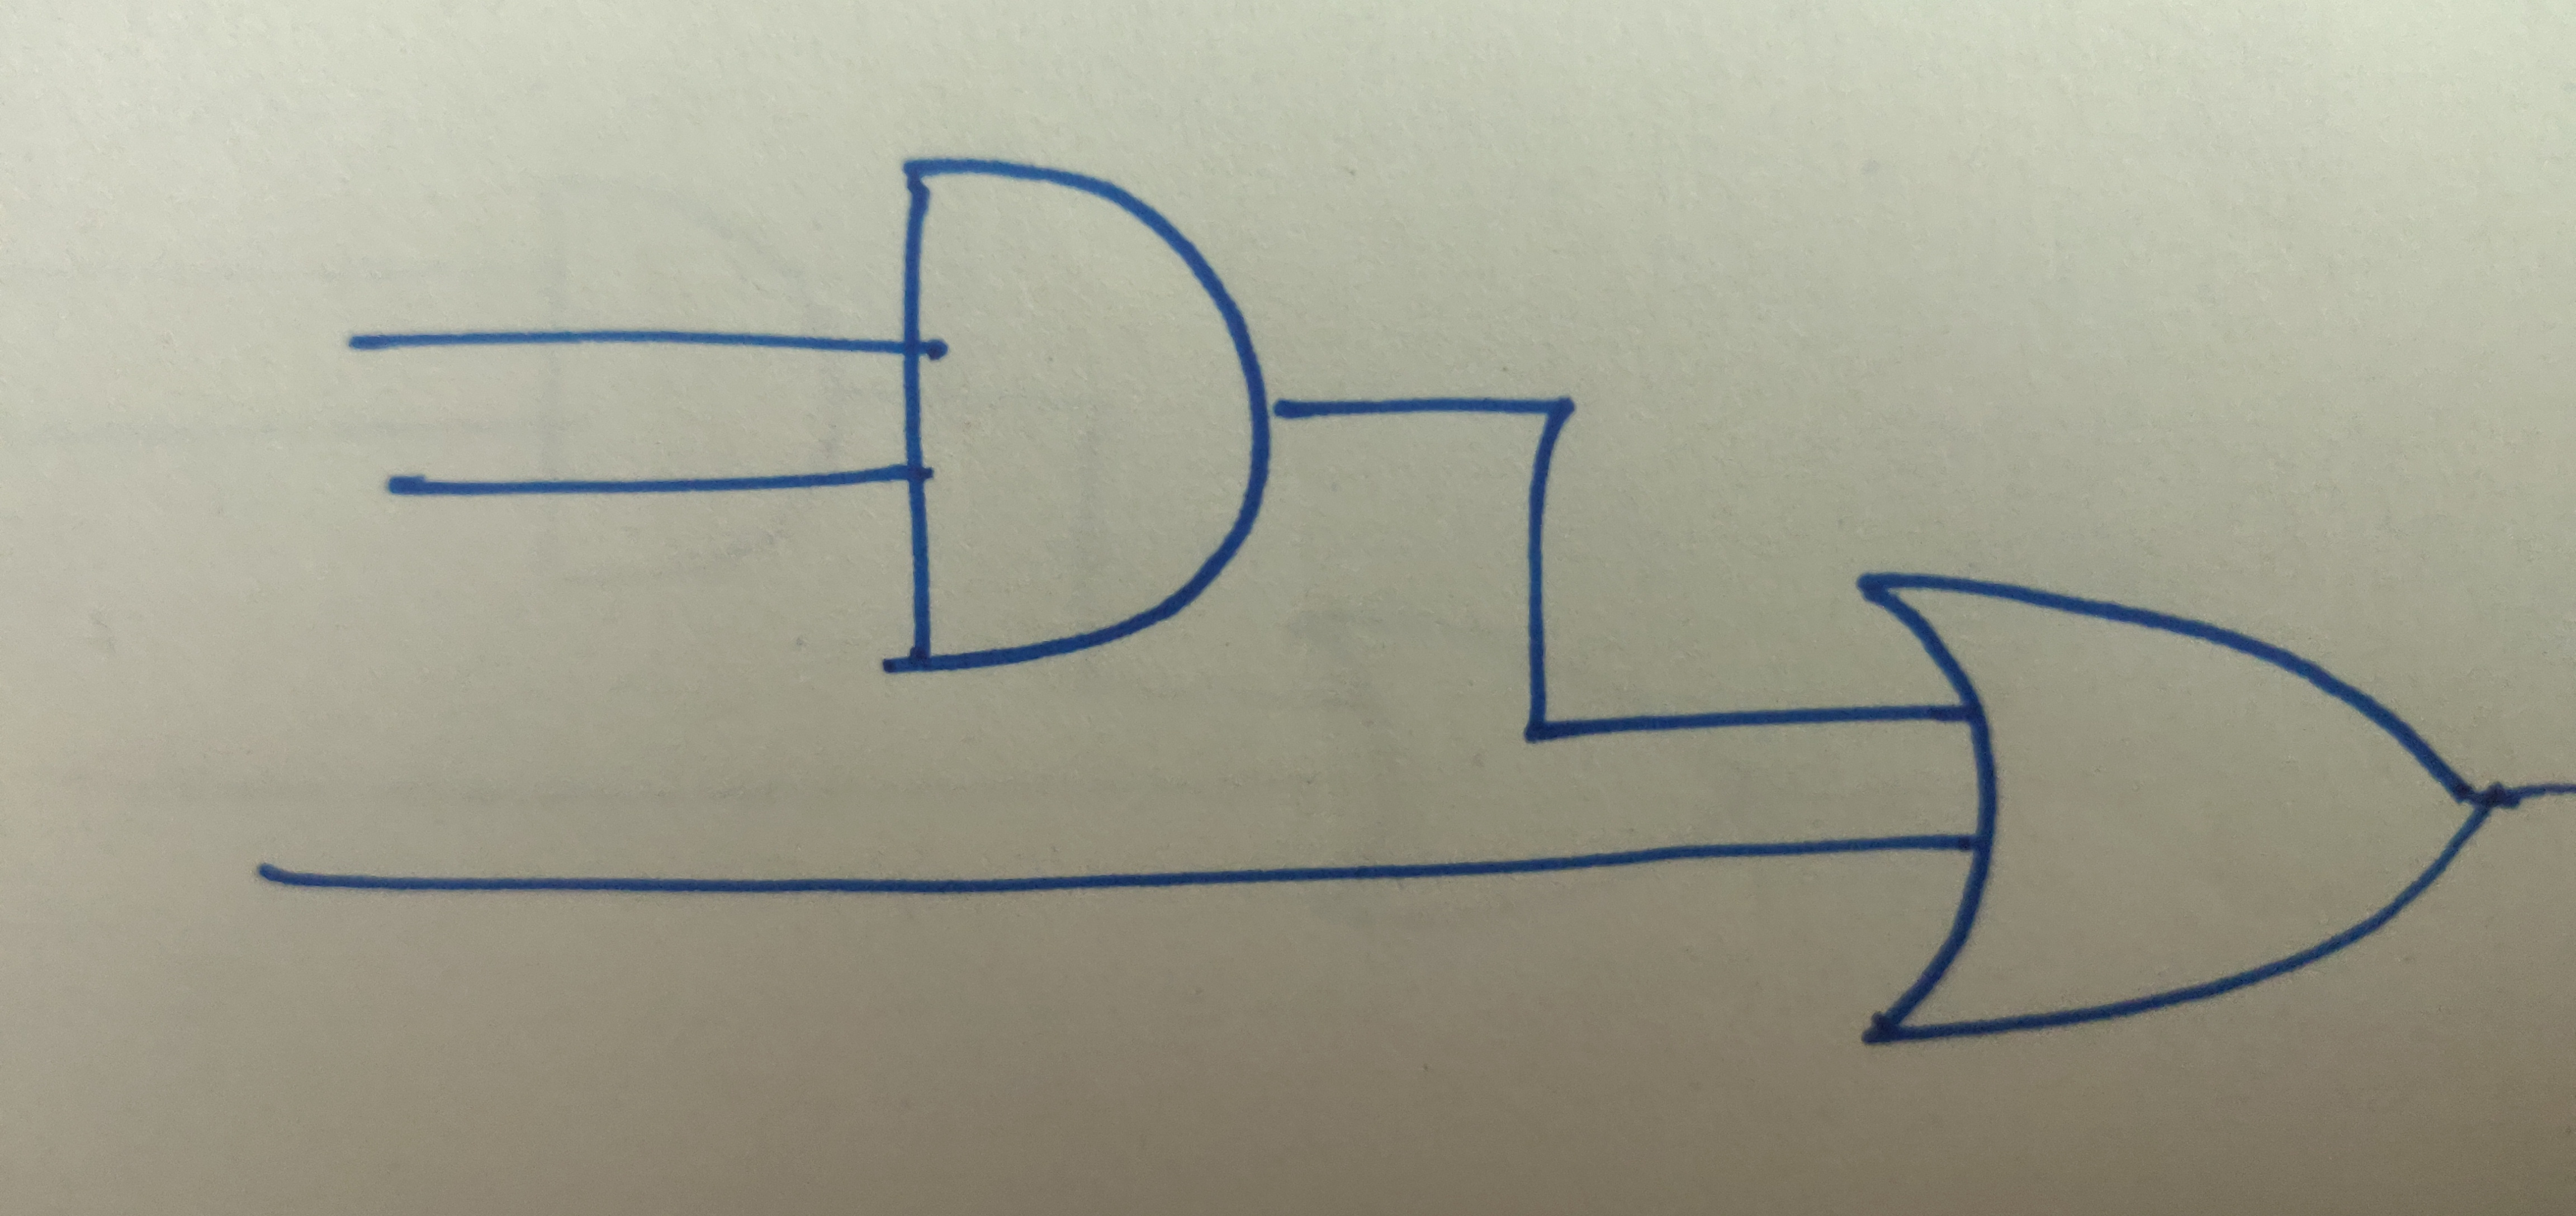and: (895, 154, 1275, 680)
or: (1850, 569, 2500, 1052)
